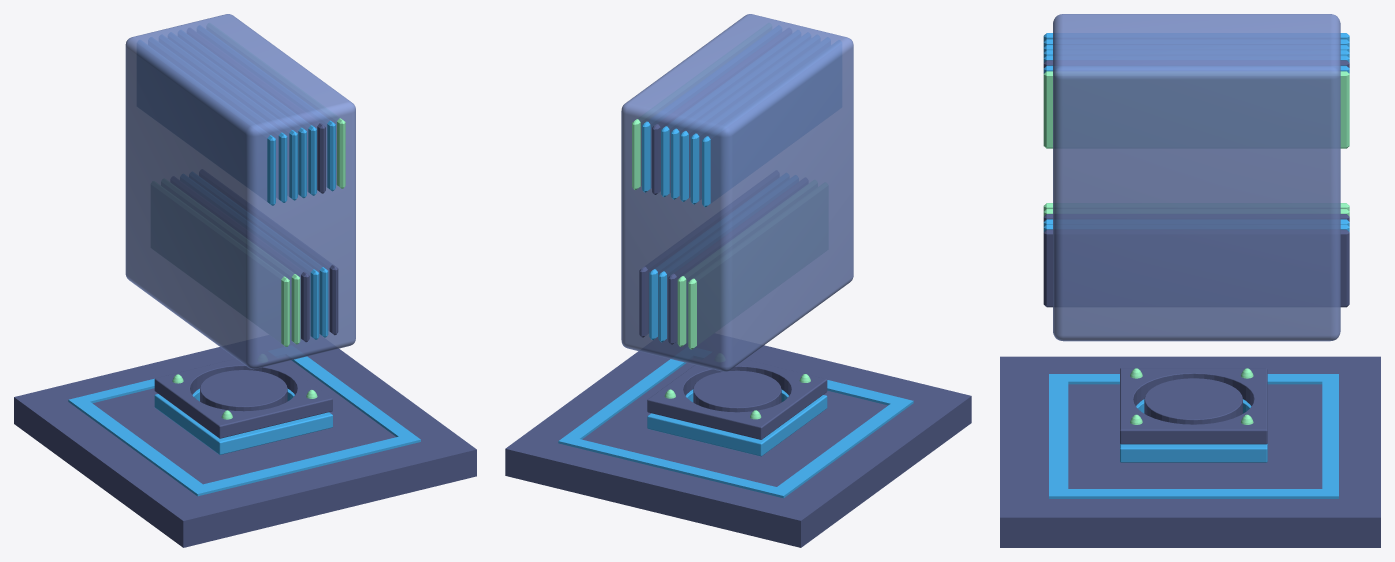
Rendered from big.gltf.
The picture shows the model from 3 angles, left to right: view 1: azimuth 30°, elevation 25°; view 2: azimuth 150°, elevation 25°; view 3: azimuth 270°, elevation 25°; orthographic projection. The views are drawn at different scales.
Visible parts, largest first — view 1: 外机箱, 大底台, 上层, 底部方框, 下层, 立方体.15_12, 立方体.13_12, 立方体.7_12, 立方体.11_12, 立方体.14_12, 立方体.3_12, 立方体.12_12 (+7 smaller); view 2: 外机箱, 大底台, 上层, 底部方框, 下层, 立方体.7_12, 立方体.11_12, 立方体.15_12, 立方体.12_12, 立方体.10_12, 立方体.4_12, 立方体.2_12 (+7 smaller); view 3: 外机箱, 大底台, 上层, 底部方框, 下层, 立方体.15_12, 立方体.1_12.
Boxes of the visible parts, x1=… form: 外机箱: x1=125, y1=14, x2=355, y2=369; 大底台: x1=14, y1=347, x2=476, y2=547; 上层: x1=154, y1=358, x2=332, y2=438; 底部方框: x1=68, y1=356, x2=420, y2=496; 下层: x1=154, y1=388, x2=332, y2=454; 立方体.15_12: x1=329, y1=264, x2=338, y2=335; 立方体.13_12: x1=310, y1=269, x2=319, y2=339; 立方体.7_12: x1=278, y1=132, x2=287, y2=202; 立方体.11_12: x1=291, y1=274, x2=300, y2=344; 立方体.14_12: x1=319, y1=267, x2=328, y2=337; 立方体.3_12: x1=317, y1=123, x2=325, y2=193; 立方体.12_12: x1=301, y1=271, x2=309, y2=342; 外机箱: x1=621, y1=14, x2=853, y2=371; 大底台: x1=505, y1=345, x2=971, y2=547; 上层: x1=647, y1=359, x2=827, y2=439; 底部方框: x1=558, y1=359, x2=913, y2=498; 下层: x1=647, y1=389, x2=827, y2=456; 立方体.7_12: x1=690, y1=133, x2=699, y2=204; 立方体.11_12: x1=677, y1=276, x2=686, y2=346; 立方体.15_12: x1=639, y1=266, x2=647, y2=337; 立方体.12_12: x1=668, y1=273, x2=676, y2=344; 立方体.10_12: x1=688, y1=278, x2=696, y2=349; 立方体.4_12: x1=661, y1=126, x2=669, y2=197; 立方体.2_12: x1=642, y1=121, x2=650, y2=192; 外机箱: x1=1053, y1=14, x2=1340, y2=341; 大底台: x1=1000, y1=356, x2=1380, y2=547; 上层: x1=1120, y1=368, x2=1267, y2=444; 底部方框: x1=1049, y1=374, x2=1338, y2=498; 下层: x1=1120, y1=399, x2=1267, y2=462; 立方体.15_12: x1=1043, y1=229, x2=1349, y2=307; 立方体.1_12: x1=1043, y1=71, x2=1349, y2=148.
Size of the model in its own units: 31.97 by 39.43 by 31.97.
